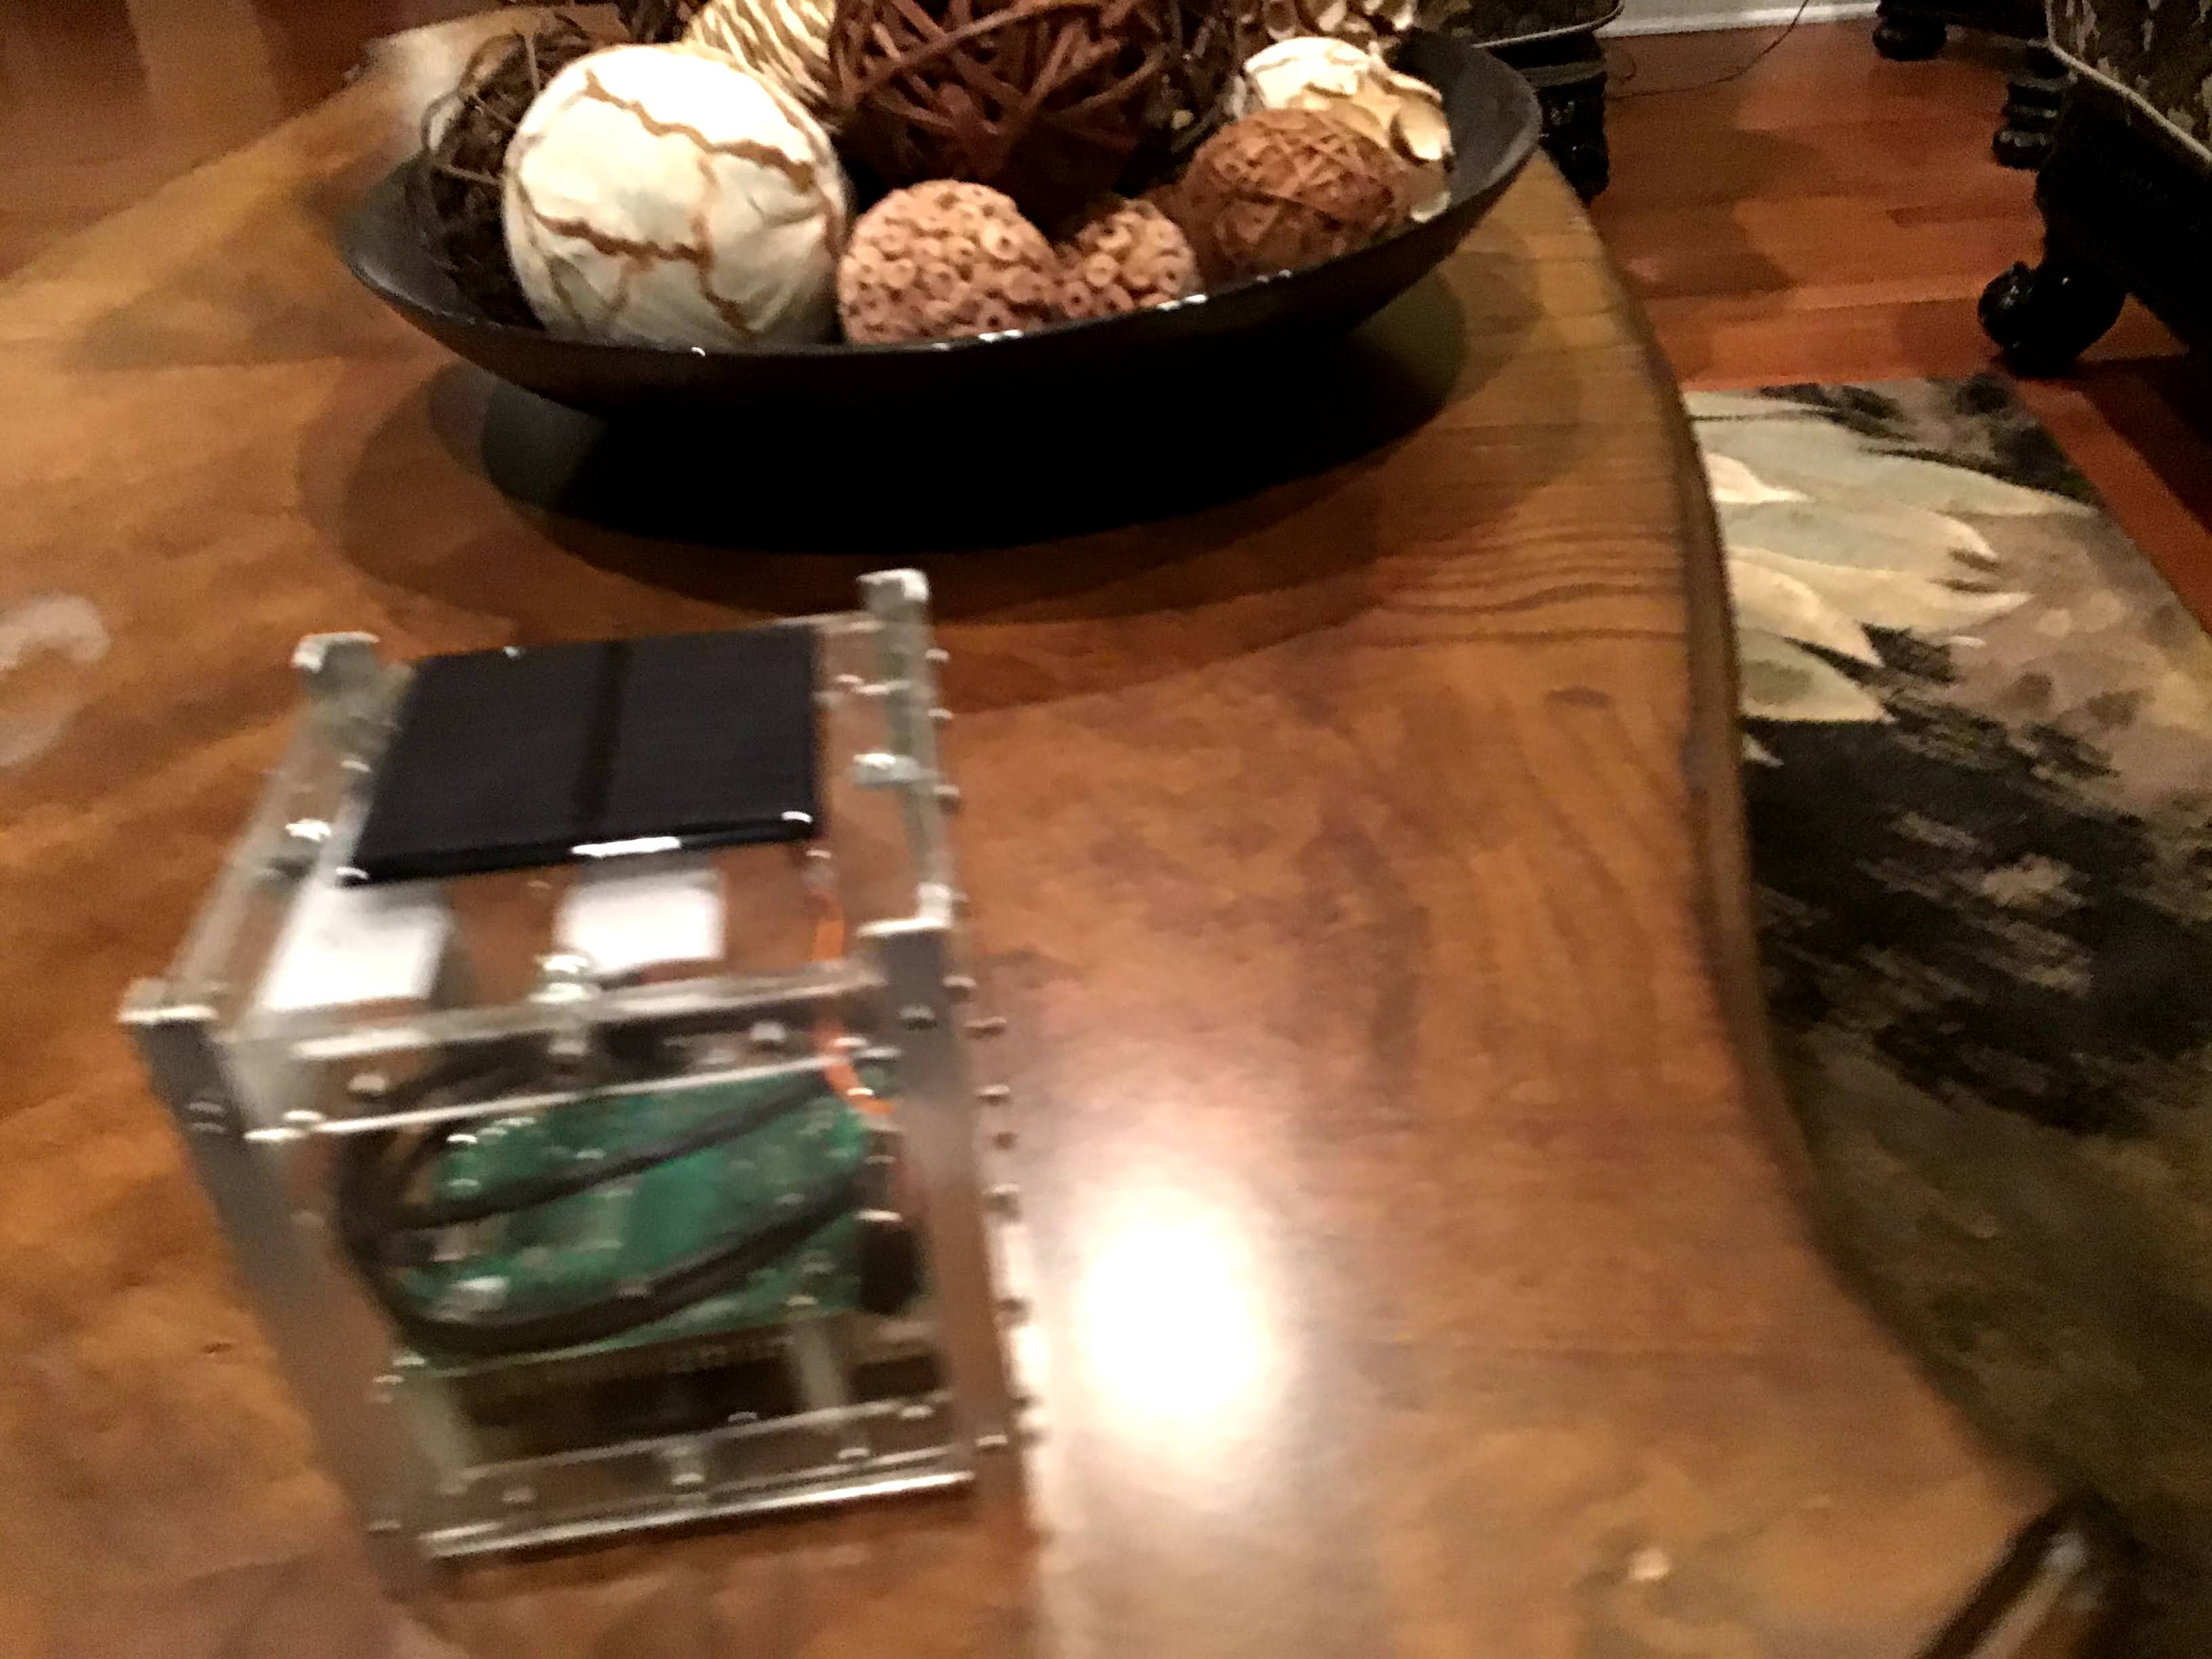Space-debris-cubesat: (106, 559, 1073, 1601)
